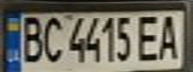1: (100, 14, 118, 62)
4: (63, 14, 87, 63), (81, 14, 100, 63)
5: (115, 12, 139, 62)
A: (154, 11, 184, 61)
B: (18, 12, 45, 63)
C: (39, 13, 66, 64)
E: (136, 12, 163, 62)
